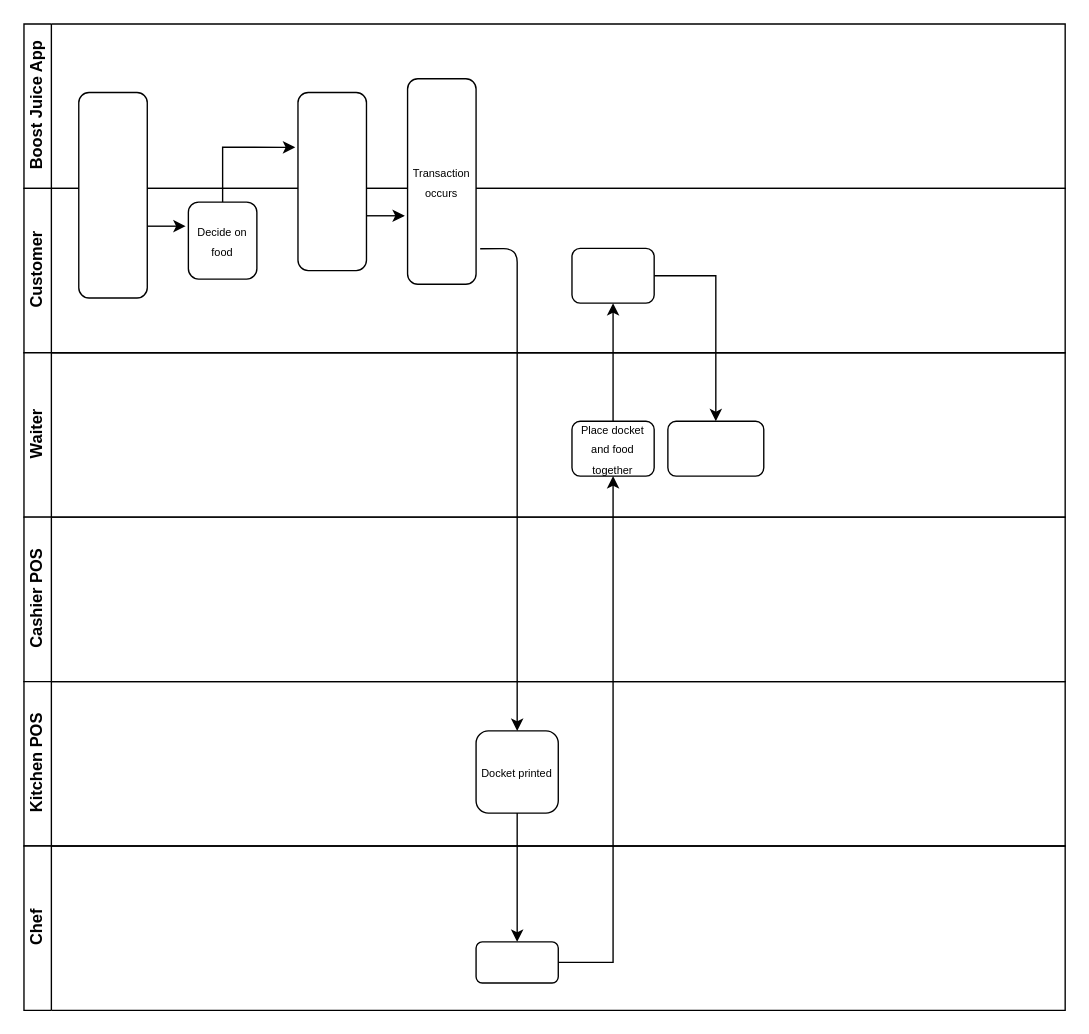
This 1089x1034 diagram has some shape labels left out. The shapes that lost their labels are listed below. From the top down, each one's centre as x and y in pixels, then its label:
At (x=112, y=194): "Customer opens app".
At (x=331, y=181): "Input order into app and schedule time".
At (x=612, y=275): "Pick up food".
At (x=715, y=448): "Cross off docket".
At (x=516, y=962): "Make Food".
